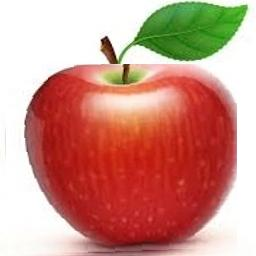Apple Fresh: (6, 65, 237, 256)
